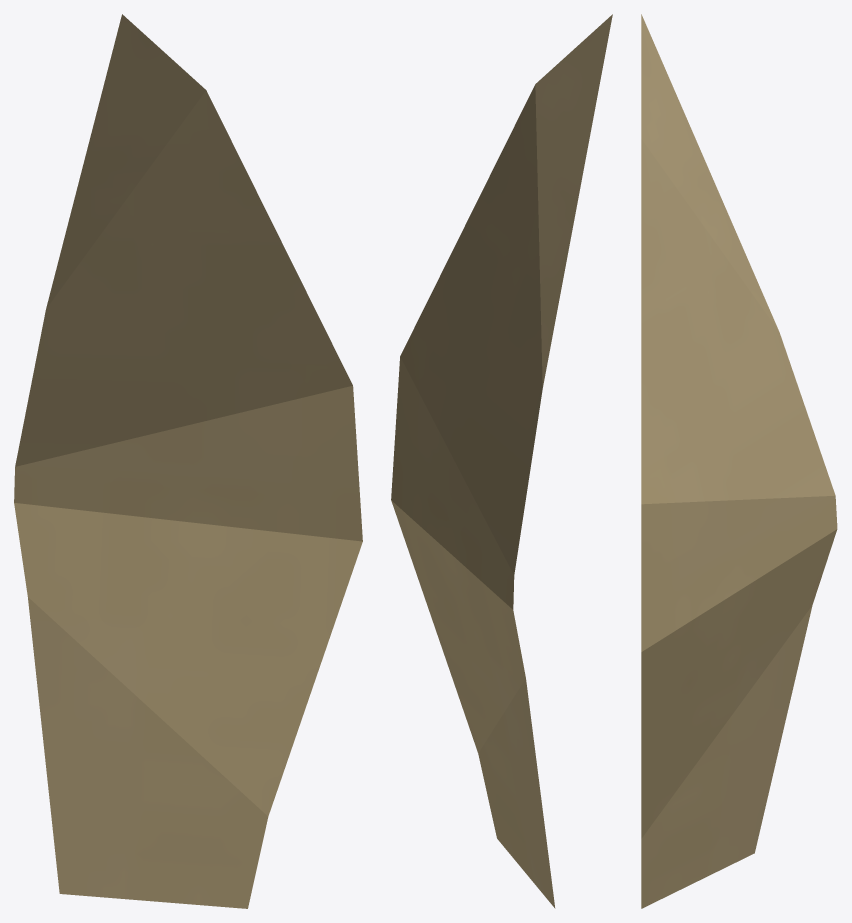
3 renders of one model, left to right at view 1: azimuth 30°, elevation 25°; view 2: azimuth 150°, elevation 25°; view 3: azimuth 270°, elevation 25°, orthographic. The views are drawn at different scales.
Bounding box in the file's own units: 0.0935 × 0.3434 × 0.0727.
1 material, 1 textured.
